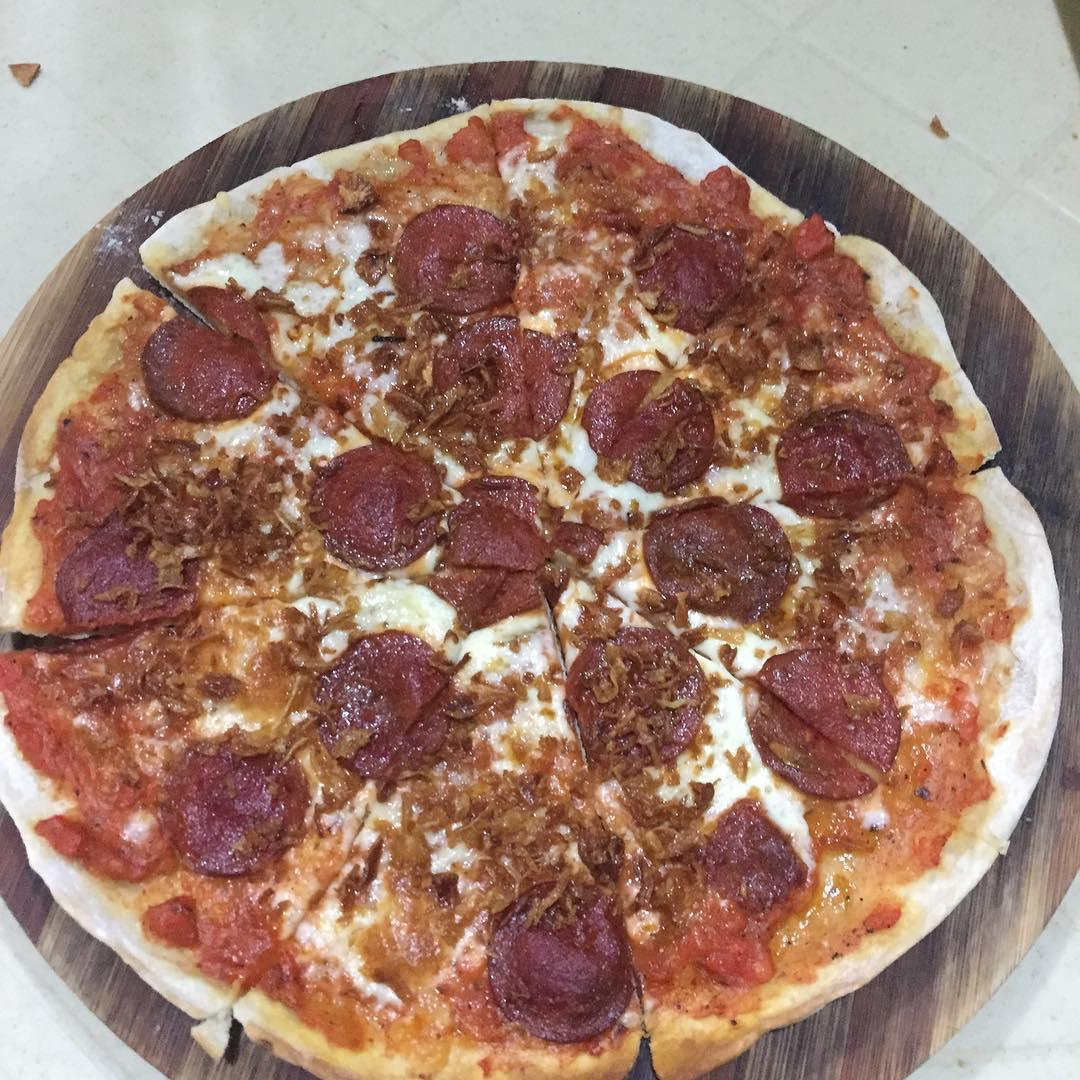Pepperoni: (479, 885, 638, 1040), (741, 645, 889, 804), (313, 627, 454, 772), (425, 315, 580, 444), (175, 743, 310, 884), (143, 289, 273, 424), (643, 499, 786, 616), (569, 635, 702, 760), (315, 441, 448, 565), (585, 365, 713, 482), (773, 409, 913, 512), (693, 797, 812, 916), (389, 205, 514, 312), (633, 219, 745, 334), (443, 469, 554, 572), (57, 533, 164, 630), (433, 569, 549, 620)
Pizza: (0, 97, 1061, 1080)
